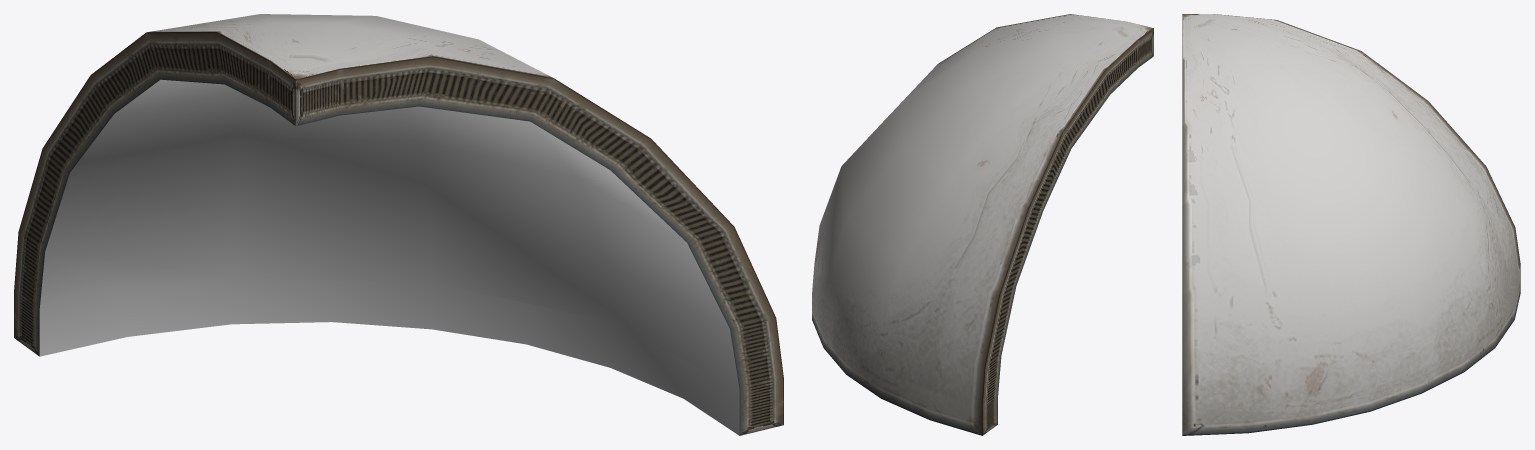
Rendered from scifi_wall_top2_curve3_2.FBX.
3 renders of one model, left to right at view 1: azimuth 30°, elevation 25°; view 2: azimuth 150°, elevation 25°; view 3: azimuth 270°, elevation 25°, orthographic. The views are drawn at different scales.
Parts seen in each view (by area): view 1: Plane347; view 2: Plane347; view 3: Plane347.
Boxes of the visible parts, left/top/right/bottom form: Plane347: left=14, top=14, right=783, bottom=435; Plane347: left=812, top=14, right=1153, bottom=435; Plane347: left=1182, top=14, right=1520, bottom=435.
Bounding box in the file's own units: 279 × 254 × 279.
